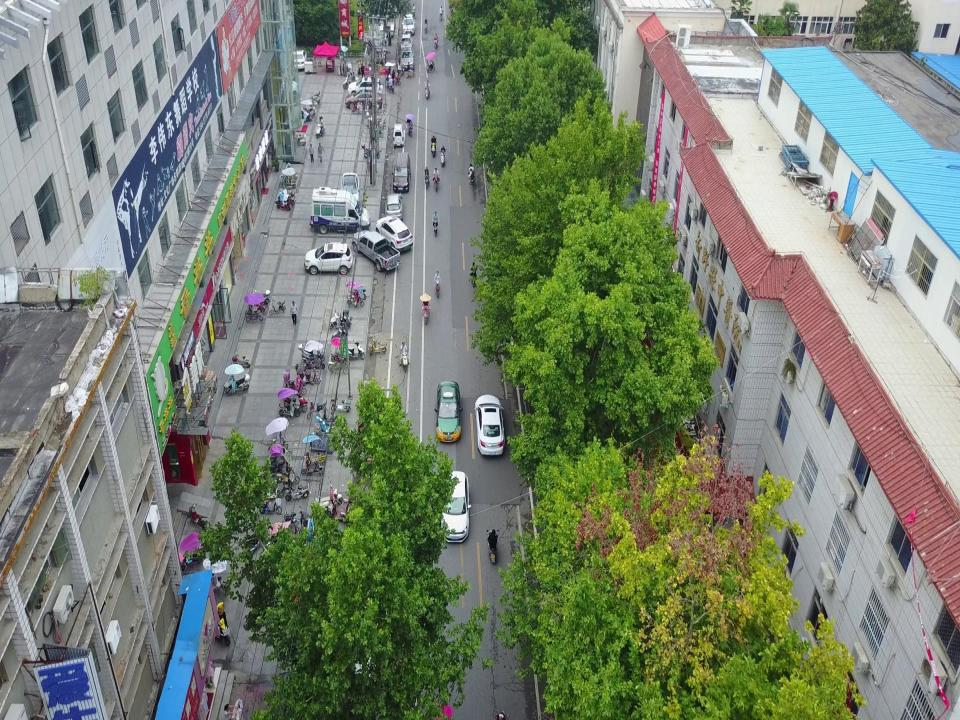car: (437, 470, 471, 543), (474, 395, 505, 456), (304, 241, 353, 274), (436, 381, 462, 443), (376, 216, 413, 251), (348, 76, 383, 97), (345, 90, 383, 109), (341, 172, 359, 205), (385, 193, 403, 221), (289, 50, 307, 70), (392, 121, 404, 146), (401, 47, 414, 70), (402, 14, 416, 35), (400, 33, 412, 49)
truck: (351, 229, 401, 271)
van: (309, 186, 371, 233), (392, 152, 411, 193)
